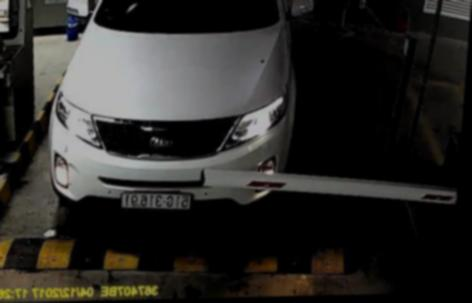License_Plate: (117, 187, 192, 213)
